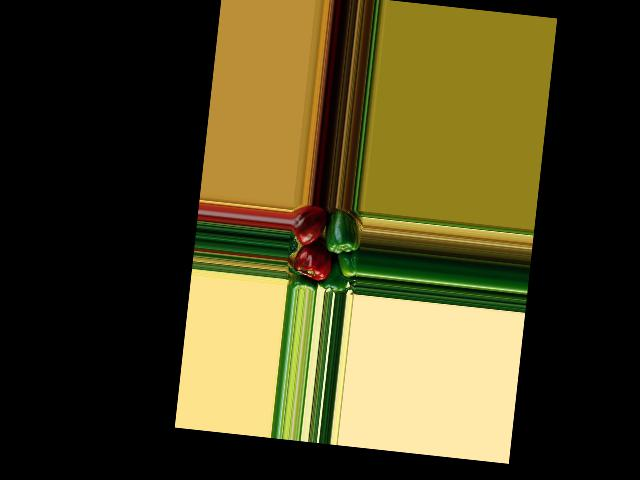bell_pepper: (290, 203, 326, 246)
